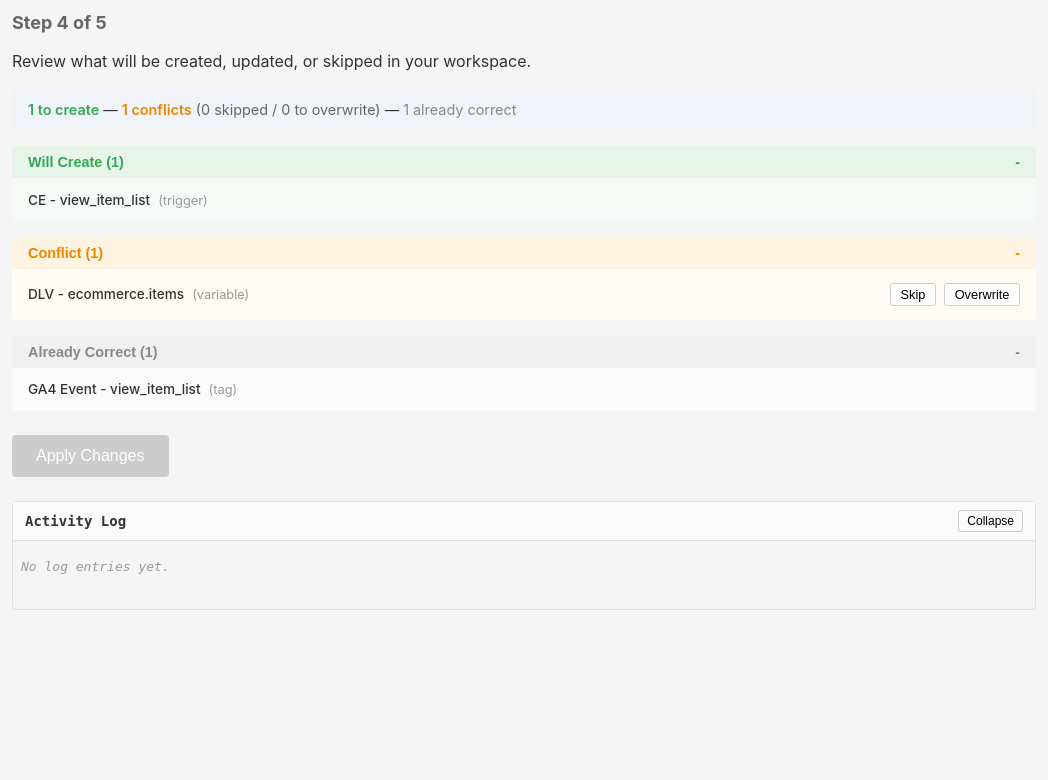
Scenario: Step4Preview › sections are collapsible
This screenshot has width=1048, height=780.
Expected: the text "CE - view_item_list" is shown, [28,192,150,208]
# Click the Will Create section header to collapse it
Click the button "Will Create (1) -".
click(76, 162)  # box [12,146,1036,178]
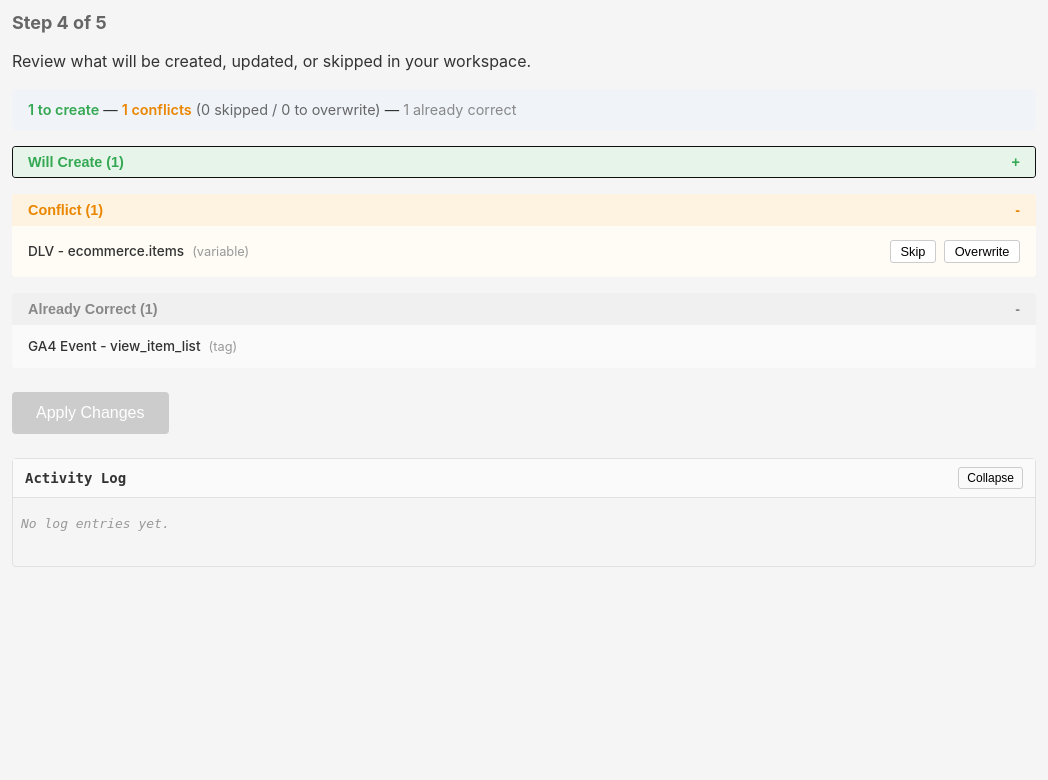
Now the text "CE - view_item_list" is gone
